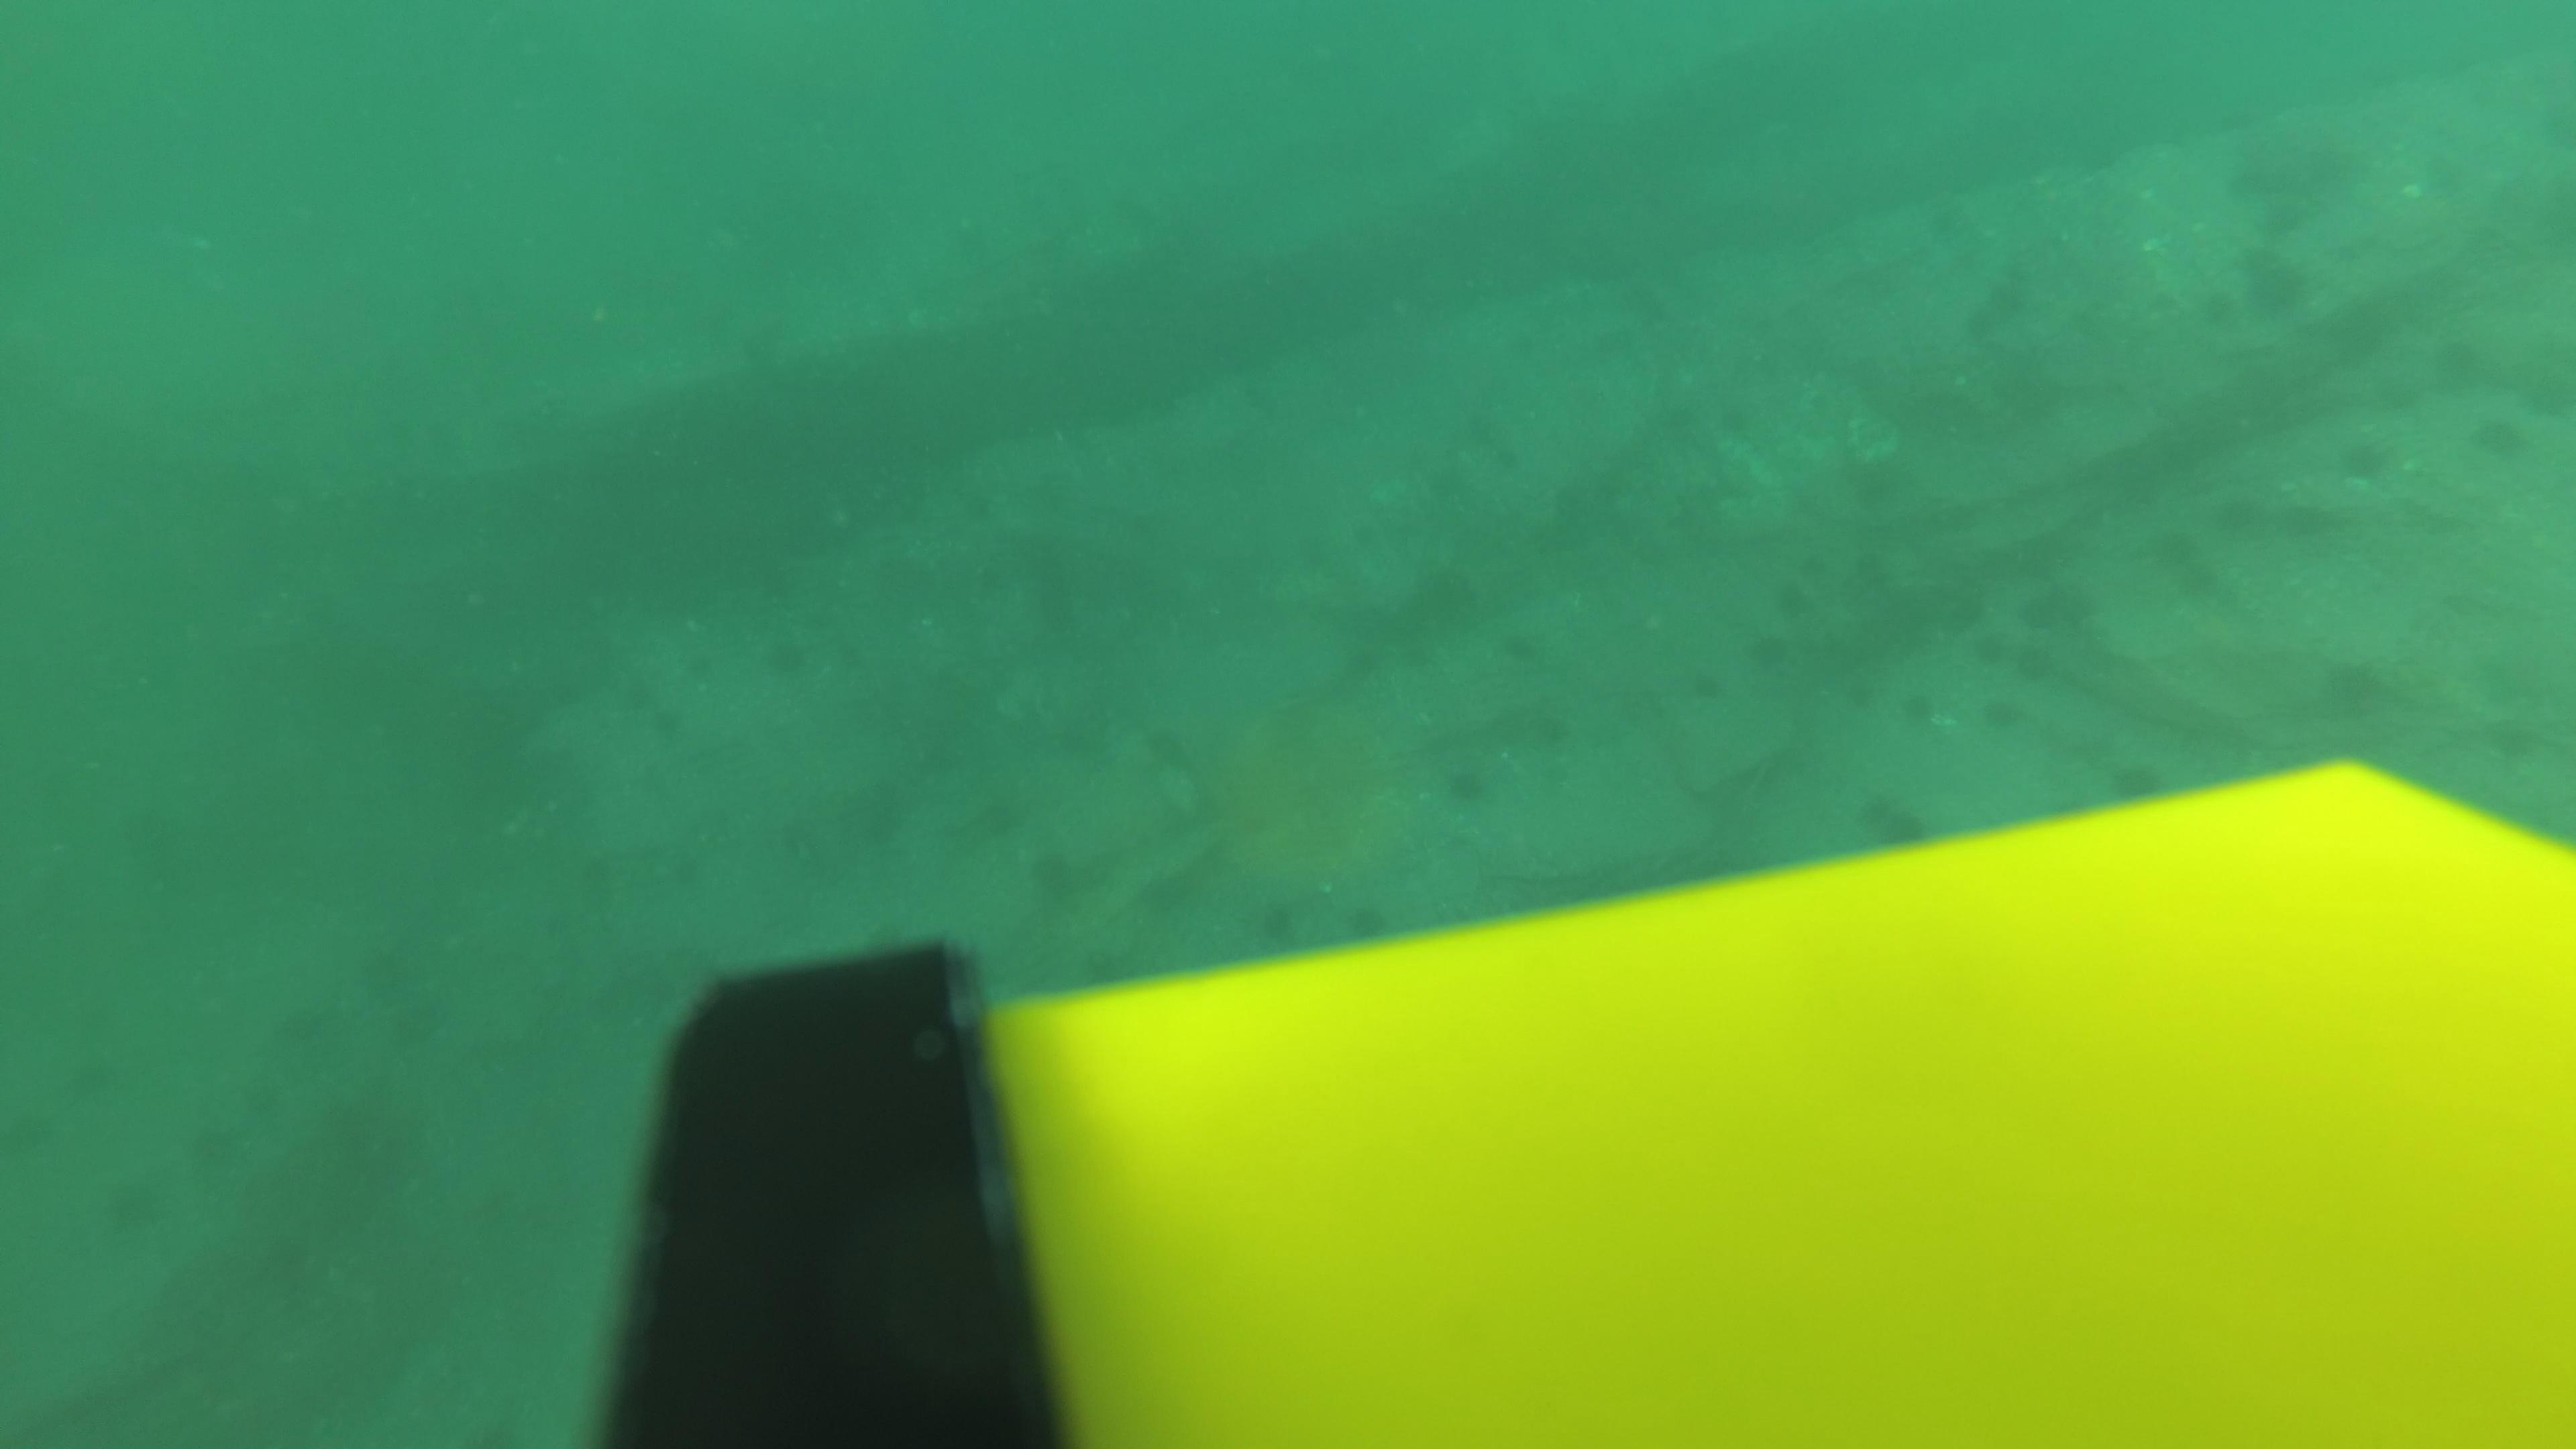echinus: (2316, 651, 2396, 724), (216, 1060, 290, 1132), (345, 927, 419, 1000), (377, 985, 451, 1058), (255, 994, 329, 1065), (97, 1169, 170, 1240), (57, 1042, 129, 1113), (179, 1108, 251, 1178), (349, 1108, 421, 1178), (1023, 840, 1092, 911), (1120, 860, 1189, 931), (1127, 706, 1196, 777), (1070, 929, 1139, 998), (1240, 892, 1309, 961), (1327, 890, 1396, 959), (1033, 701, 1102, 770), (962, 782, 1031, 851), (1030, 577, 1099, 646), (2465, 407, 2534, 469), (2332, 428, 2399, 488), (2426, 324, 2493, 384), (2277, 485, 2342, 545), (2102, 754, 2167, 814), (2318, 315, 2383, 375), (2364, 356, 2429, 416), (2219, 479, 2284, 538), (2146, 506, 2212, 564), (2160, 543, 2226, 602), (754, 633, 816, 690), (665, 635, 727, 692), (649, 686, 711, 743), (616, 663, 678, 720), (851, 793, 913, 849), (755, 807, 817, 863), (669, 837, 731, 893), (575, 839, 637, 895), (814, 625, 876, 681), (1438, 755, 1499, 812), (1527, 709, 1587, 766), (1499, 617, 1559, 674), (750, 550, 810, 607), (2252, 269, 2316, 322), (2233, 232, 2296, 285), (2219, 163, 2282, 216), (2259, 195, 2321, 248), (2332, 138, 2394, 191), (2206, 287, 2270, 338), (2013, 584, 2077, 633), (1882, 807, 1928, 855), (1849, 794, 1898, 839), (1973, 690, 2022, 734), (2012, 642, 2061, 686), (1971, 617, 2020, 662), (1895, 683, 1944, 727), (1824, 674, 1874, 718), (1674, 663, 1723, 708), (1741, 630, 1790, 674), (1766, 575, 1815, 619), (1778, 545, 1828, 589), (1847, 543, 1897, 587), (1849, 467, 1898, 511), (1974, 278, 2024, 322), (1974, 276, 2024, 320), (1396, 633, 1435, 678), (1348, 637, 1387, 681), (1435, 563, 1474, 607), (1550, 481, 1589, 525), (1713, 405, 1750, 439), (1663, 398, 1700, 432), (1488, 441, 1525, 474), (1426, 462, 1463, 495), (1348, 515, 1385, 548), (1293, 533, 1330, 566), (1499, 326, 1536, 359), (1601, 318, 1638, 352), (1571, 373, 1608, 407)
